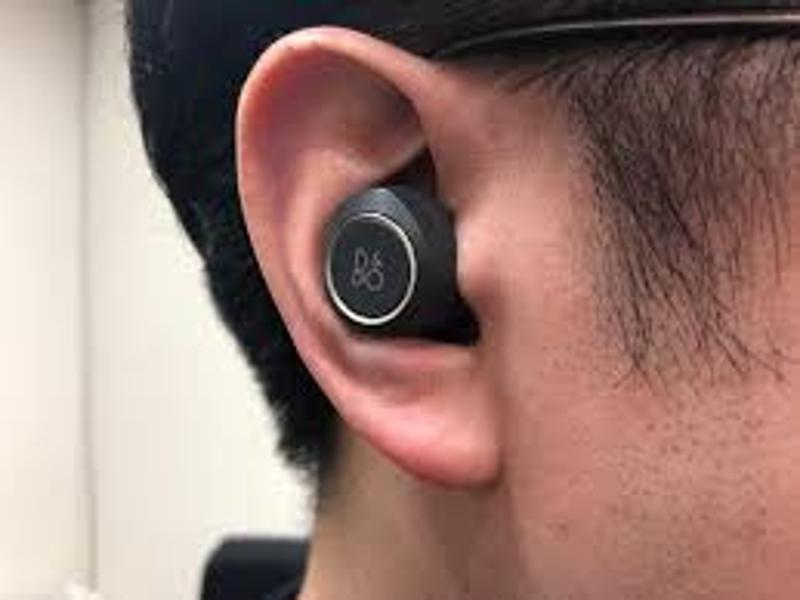headphone: (318, 170, 476, 350)
